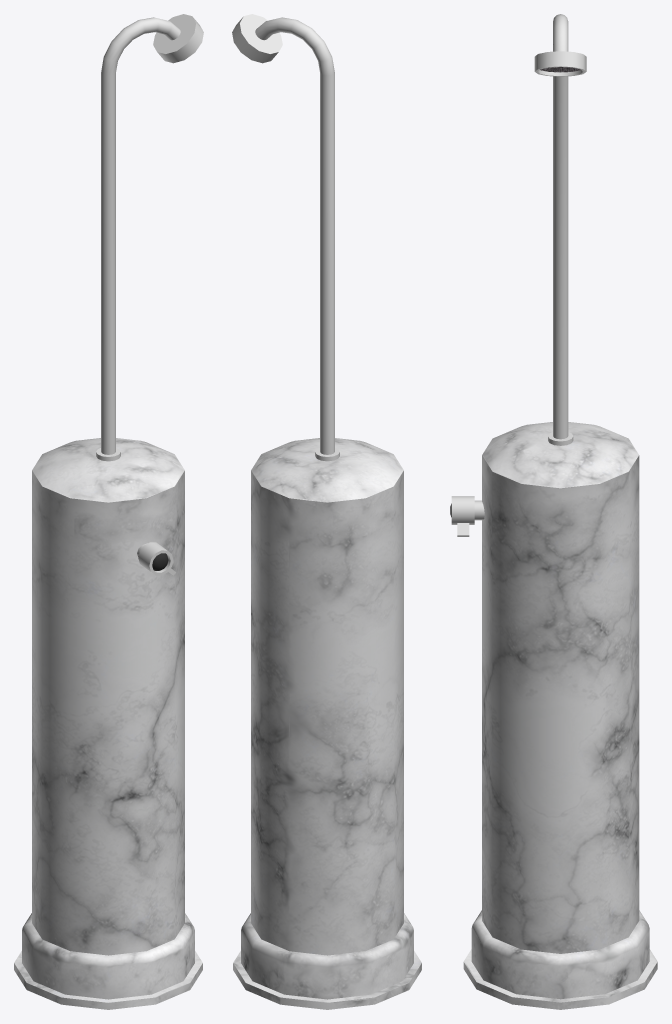
Rendered from shower.fbx.
3 views of the same model, side by side, from view 1: azimuth 30°, elevation 25°; view 2: azimuth 150°, elevation 25°; view 3: azimuth 270°, elevation 25° (orthographic). The views are drawn at different scales.
Visible parts, largest first — view 1: shower; view 2: shower; view 3: shower.
Part boxes in pixels (x1=…): shower: x1=14, y1=14, x2=203, y2=1009; shower: x1=232, y1=14, x2=421, y2=1009; shower: x1=450, y1=14, x2=657, y2=1009.
Bounding box in the file's own units: 32.69 × 170 × 32.97.
